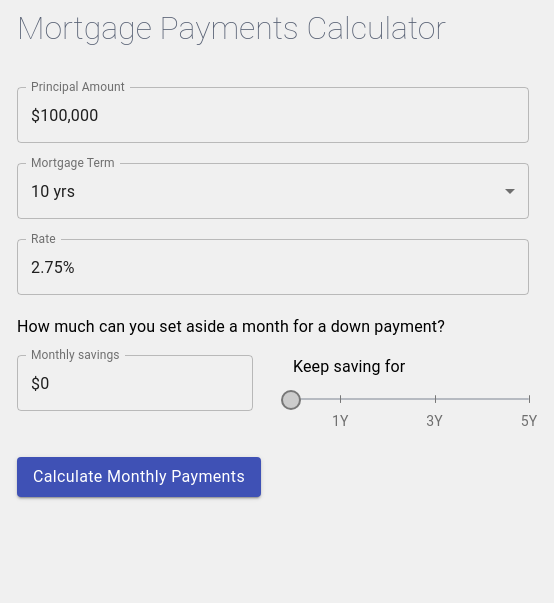
Test: CalculatorApp › calculates monthly payment based on default input values
The image size is (554, 603).
Click the button "Calculate Monthly Payments".
click(139, 477)  # box left=17, top=457, right=261, bottom=497
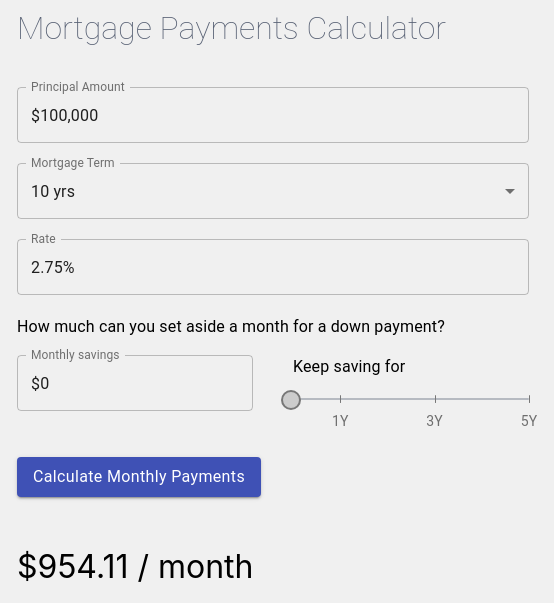
Result: the text "$954.11" is shown at left=17, top=547, right=128, bottom=586
